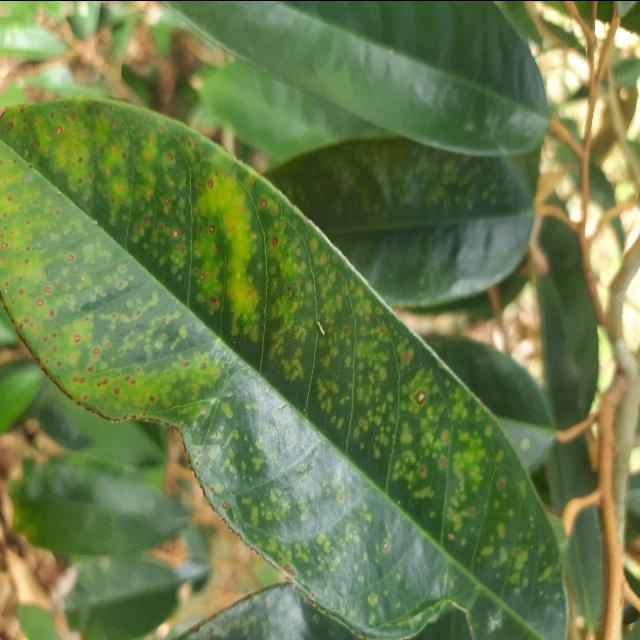Leaf Spot: (0, 91, 575, 640)
